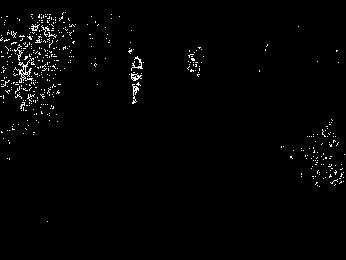person: (125, 56, 144, 105)
